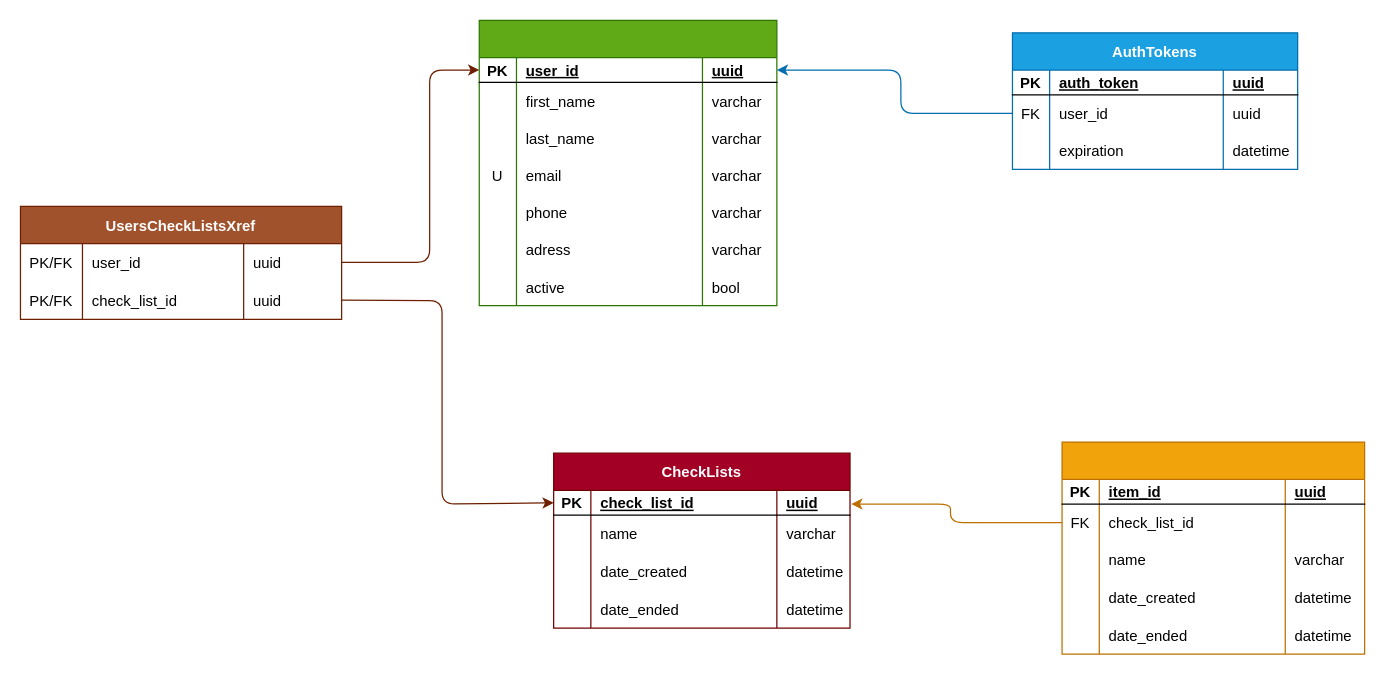
This 1385x675 diagram has some shape labels left out. Here are the shapes that lost their labels. From the top down, the box of each, then its label:
(478, 19, 777, 306): Users
(1061, 441, 1365, 654): Items
